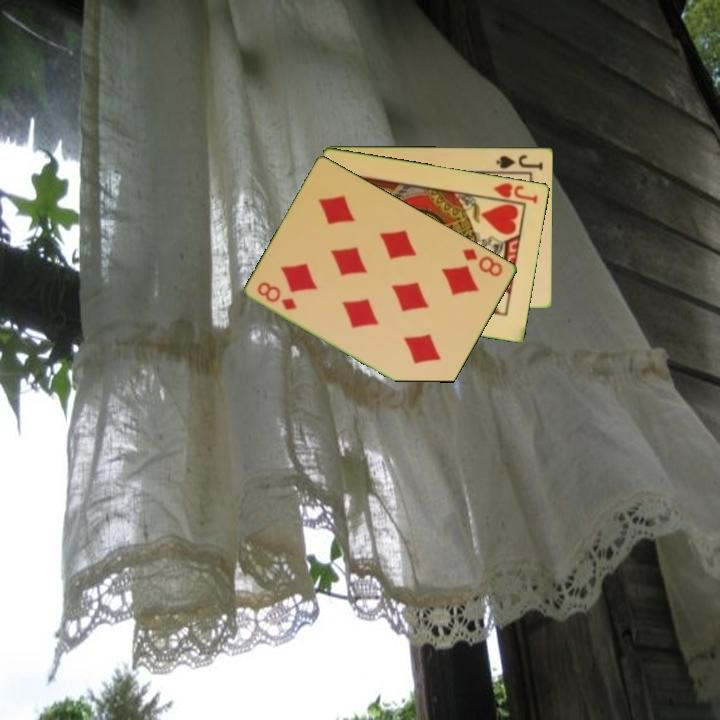8d: (459, 244, 506, 280), (254, 278, 300, 313)
Jh: (484, 179, 541, 206)
Js: (493, 151, 546, 173)
